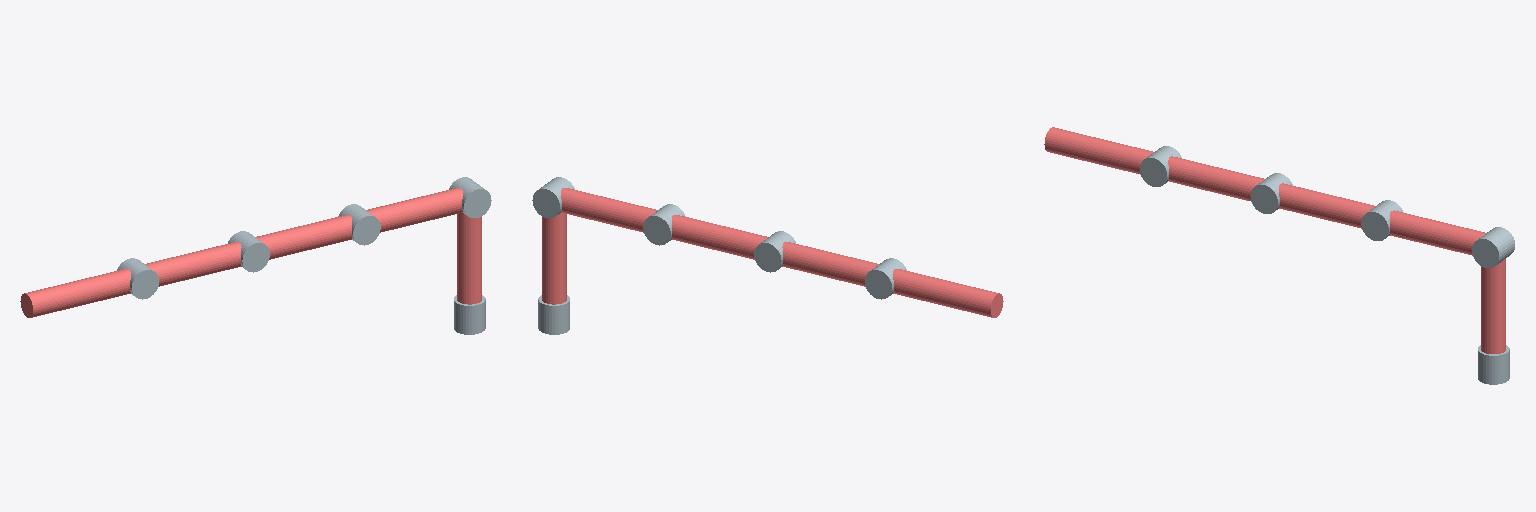
robot.urdf — robot:
<robot name='robot'>
	<material name='blue'>
		<color rgba='0 0 0.8 1'/>
	</material>
	<material name='red'>
		<color rgba='0.8 0 0 1'/>
	</material>
	<link name='a0'>
		<visual>
			<origin rpy='-0.0 0.0 0.0' xyz='0.0 0.0 0.0'/>
			<geometry>
				<cylinder length='0.1' radius='0.05'/>
			</geometry>
			<material name='blue'><color rgba='0.73 0.79 0.82 1'/></material>
		</visual>
	</link>
	<link name='l0'>
		<visual>
			<origin rpy='-0.0 0.0 0.0' xyz='0.0 0.0 0.2'/>
			<geometry>
				<cylinder length='0.4' radius='0.04'/>
			</geometry>
			<material name='grey'><color rgba='0.99 0.54 0.54 1'/></material>
		</visual>
	</link>
	<joint name='move_l0_from_a0' type='continuous'>
		<parent link='a0'/>
		<child link='l0'/>
		<axis xyz='0.0 0.0 1.0'/>
		<origin rpy='0 0 0' xyz='0.0 0.0 0.0'/>
	</joint>
	<link name='a1'>
		<visual>
			<origin rpy='1.5707963267948966 0.0 0.0' xyz='0.0 0.0 0.4'/>
			<geometry>
				<cylinder length='0.1' radius='0.05'/>
			</geometry>
			<material name='blue'><color rgba='0.73 0.79 0.82 1'/></material>
		</visual>
	</link>
	<joint name='fix_a1_to_l0' type='fixed'>
		<parent link='l0'/>
		<child link='a1'/>
		<origin rpy='0 0 0' xyz='0 0 0'/>
	</joint>
	<link name='l1'>
		<visual>
			<origin rpy='-0.0 -1.5707963267948963 0.0' xyz='-0.2 -0.0 0.0'/>
			<geometry>
				<cylinder length='0.4' radius='0.04'/>
			</geometry>
			<material name='grey'><color rgba='0.99 0.54 0.54 1'/></material>
		</visual>
	</link>
	<joint name='move_l1_from_a1' type='continuous'>
		<parent link='a1'/>
		<child link='l1'/>
		<axis xyz='0.0 -1.0 0.0'/>
		<origin rpy='0 0 0' xyz='0.0 0.0 0.4'/>
	</joint>
	<link name='a2'>
		<visual>
			<origin rpy='1.5707963267948966 0.0 0.0' xyz='-0.4 -0.0 0.0'/>
			<geometry>
				<cylinder length='0.1' radius='0.05'/>
			</geometry>
			<material name='blue'><color rgba='0.73 0.79 0.82 1'/></material>
		</visual>
	</link>
	<joint name='fix_a2_to_l1' type='fixed'>
		<parent link='l1'/>
		<child link='a2'/>
		<origin rpy='0 0 0' xyz='0 0 0'/>
	</joint>
	<link name='l2'>
		<visual>
			<origin rpy='-0.0 -1.5707963267948963 0.0' xyz='-0.2 -0.0 0.0'/>
			<geometry>
				<cylinder length='0.4' radius='0.04'/>
			</geometry>
			<material name='grey'><color rgba='0.99 0.54 0.54 1'/></material>
		</visual>
	</link>
	<joint name='move_l2_from_a2' type='continuous'>
		<parent link='a2'/>
		<child link='l2'/>
		<axis xyz='0.0 -1.0 0.0'/>
		<origin rpy='0 0 0' xyz='-0.4 -0.0 0.0'/>
	</joint>
	<link name='a3'>
		<visual>
			<origin rpy='1.5707963267948966 0.0 0.0' xyz='-0.4 -0.0 0.0'/>
			<geometry>
				<cylinder length='0.1' radius='0.05'/>
			</geometry>
			<material name='blue'><color rgba='0.73 0.79 0.82 1'/></material>
		</visual>
	</link>
	<joint name='fix_a3_to_l2' type='fixed'>
		<parent link='l2'/>
		<child link='a3'/>
		<origin rpy='0 0 0' xyz='0 0 0'/>
	</joint>
	<link name='l3'>
		<visual>
			<origin rpy='-0.0 -1.5707963267948963 0.0' xyz='-0.2 -0.0 0.0'/>
			<geometry>
				<cylinder length='0.4' radius='0.04'/>
			</geometry>
			<material name='grey'><color rgba='0.99 0.54 0.54 1'/></material>
		</visual>
	</link>
	<joint name='move_l3_from_a3' type='continuous'>
		<parent link='a3'/>
		<child link='l3'/>
		<axis xyz='0.0 -1.0 0.0'/>
		<origin rpy='0 0 0' xyz='-0.4 -0.0 0.0'/>
	</joint>
	<link name='a4'>
		<visual>
			<origin rpy='1.5707963267948966 0.0 0.0' xyz='-0.4 -0.0 0.0'/>
			<geometry>
				<cylinder length='0.1' radius='0.05'/>
			</geometry>
			<material name='blue'><color rgba='0.73 0.79 0.82 1'/></material>
		</visual>
	</link>
	<joint name='fix_a4_to_l3' type='fixed'>
		<parent link='l3'/>
		<child link='a4'/>
		<origin rpy='0 0 0' xyz='0 0 0'/>
	</joint>
	<link name='l4'>
		<visual>
			<origin rpy='-0.0 -1.5707963267948963 0.0' xyz='-0.2 -0.0 0.0'/>
			<geometry>
				<cylinder length='0.4' radius='0.04'/>
			</geometry>
			<material name='grey'><color rgba='0.99 0.54 0.54 1'/></material>
		</visual>
	</link>
	<joint name='move_l4_from_a4' type='continuous'>
		<parent link='a4'/>
		<child link='l4'/>
		<axis xyz='0.0 -1.0 0.0'/>
		<origin rpy='0 0 0' xyz='-0.4 -0.0 0.0'/>
	</joint>
</robot>

--- What the picture shows (computed from the rendered views, not written in the file) ---
Views: 3 orthographic renders of the robot side by side, from view 1: azimuth 30°, elevation 25°; view 2: azimuth 150°, elevation 25°; view 3: azimuth 330°, elevation 25°.
Model robot with 10 links and 9 joints (5 continuous, 4 fixed), rooted at a0, posed every joint at zero.
Visible links, largest first — view 1: l4, l2, l3, l1, l0, a0, a1, a3, a2, a4; view 2: l4, l2, l3, l1, l0, a0, a1, a3, a2, a4; view 3: l4, l1, l2, l3, l0, a1, a0, a4, a2, a3.
Boxes of the visible links, <box> form: l4: <box>20,269,130,317</box>; l2: <box>256,215,351,259</box>; l3: <box>145,242,241,286</box>; l1: <box>366,188,462,232</box>; l0: <box>457,213,481,304</box>; a0: <box>454,295,485,334</box>; a1: <box>449,177,491,217</box>; a3: <box>228,231,269,272</box>; a2: <box>338,204,380,245</box>; a4: <box>117,258,158,299</box>; l4: <box>893,269,1003,317</box>; l2: <box>672,215,767,259</box>; l3: <box>782,242,878,286</box>; l1: <box>561,188,657,232</box>; l0: <box>542,213,566,304</box>; a0: <box>538,295,569,334</box>; a1: <box>532,177,574,217</box>; a3: <box>754,231,795,272</box>; a2: <box>643,204,685,245</box>; a4: <box>865,258,906,299</box>; l4: <box>1044,127,1153,174</box>; l1: <box>1390,210,1485,255</box>; l2: <box>1279,183,1375,228</box>; l3: <box>1168,156,1264,200</box>; l0: <box>1481,259,1505,353</box>; a1: <box>1472,227,1514,267</box>; a0: <box>1478,345,1509,384</box>; a4: <box>1140,146,1181,186</box>; a2: <box>1361,200,1403,240</box>; a3: <box>1250,173,1292,213</box>.
Size in the robot's own frame: 1.65 by 0.1 by 0.5 metres.
Geometry: primitives only (box / cylinder / sphere), no mesh files.